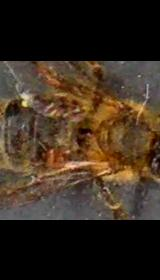varroa_mite: (41, 138, 66, 174)
